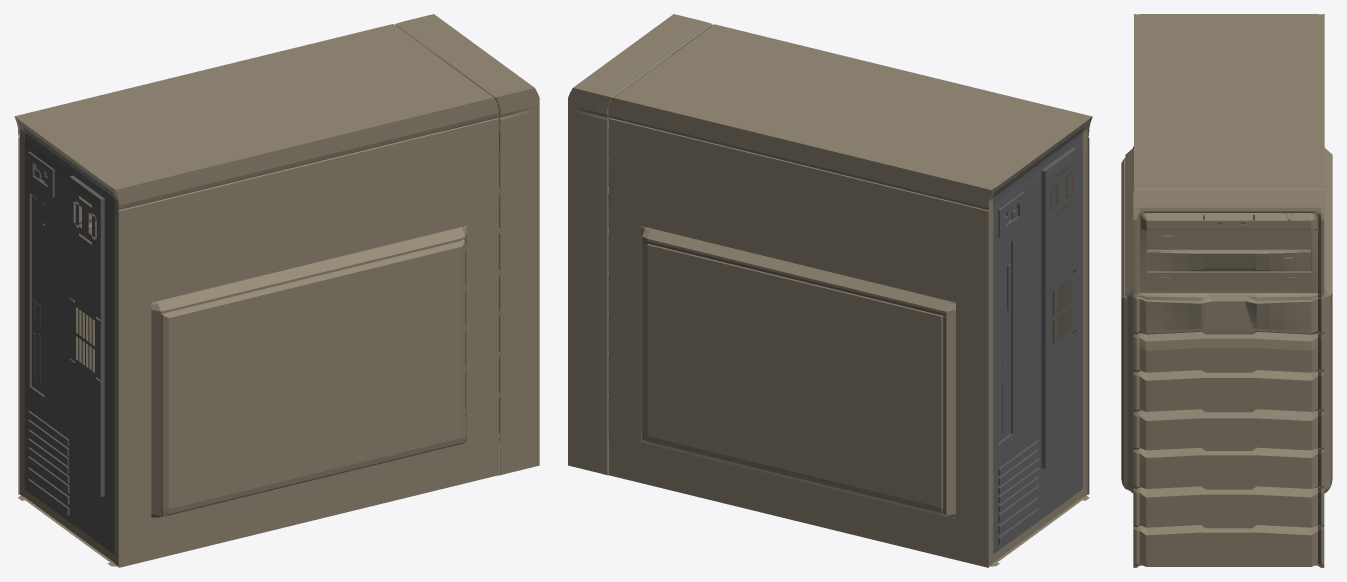
File: Gabinete1.fbx
3 views of the same model, side by side, from view 1: azimuth 30°, elevation 25°; view 2: azimuth 150°, elevation 25°; view 3: azimuth 270°, elevation 25° (orthographic). The views are drawn at different scales.
Visible parts, largest first — view 1: GabinetePCBasico; view 2: GabinetePCBasico; view 3: GabinetePCBasico.
Boxes of the visible parts, left/top/right/bottom form: GabinetePCBasico: left=14, top=14, right=539, bottom=567; GabinetePCBasico: left=568, top=14, right=1092, bottom=567; GabinetePCBasico: left=1121, top=14, right=1332, bottom=567.
Bounding box in the file's own units: 495 × 417 × 223.
